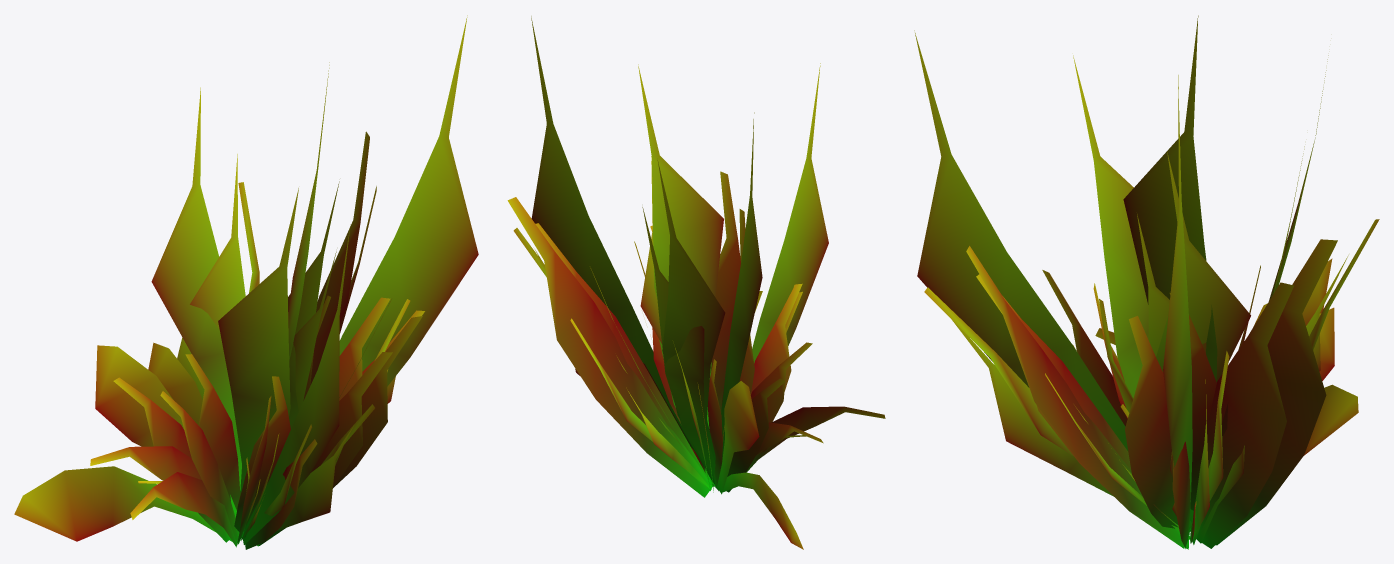
The model's file is tmjhcayia_Var8_LOD1.fbx.
3 views of the same model, side by side, from view 1: azimuth 30°, elevation 25°; view 2: azimuth 150°, elevation 25°; view 3: azimuth 270°, elevation 25° (orthographic). The views are drawn at different scales.
Visible parts, largest first — view 1: Var8_LOD1; view 2: Var8_LOD1; view 3: Var8_LOD1.
Boxes of the visible parts, x1,y1,x2,y2 form: Var8_LOD1: (14,15,478,549); Var8_LOD1: (507,16,885,549); Var8_LOD1: (914,15,1379,549).
Bounding box in the file's own units: 7.25 × 8.7 × 6.06.
